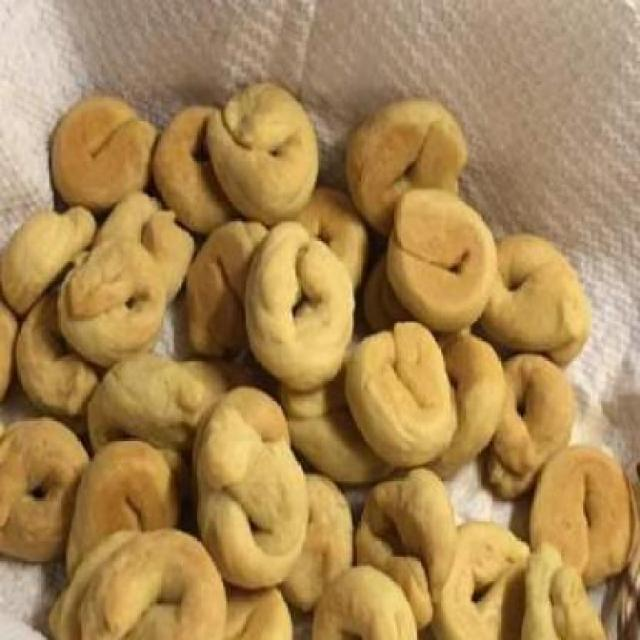Taralli: (7, 93, 630, 624)
